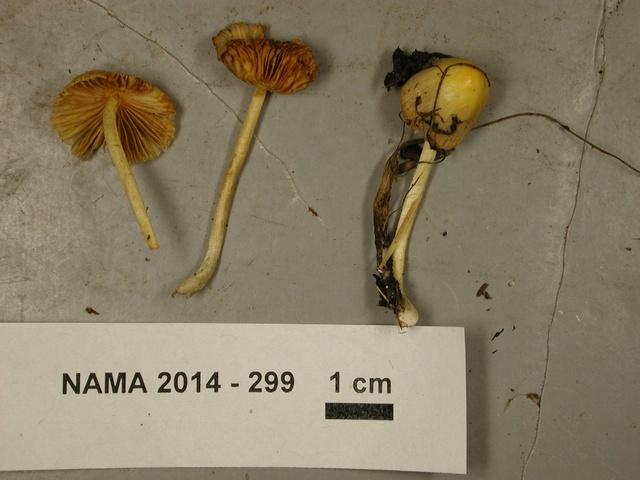Edible Mushroom: (200, 10, 331, 145), (47, 63, 193, 182), (382, 31, 502, 173)
